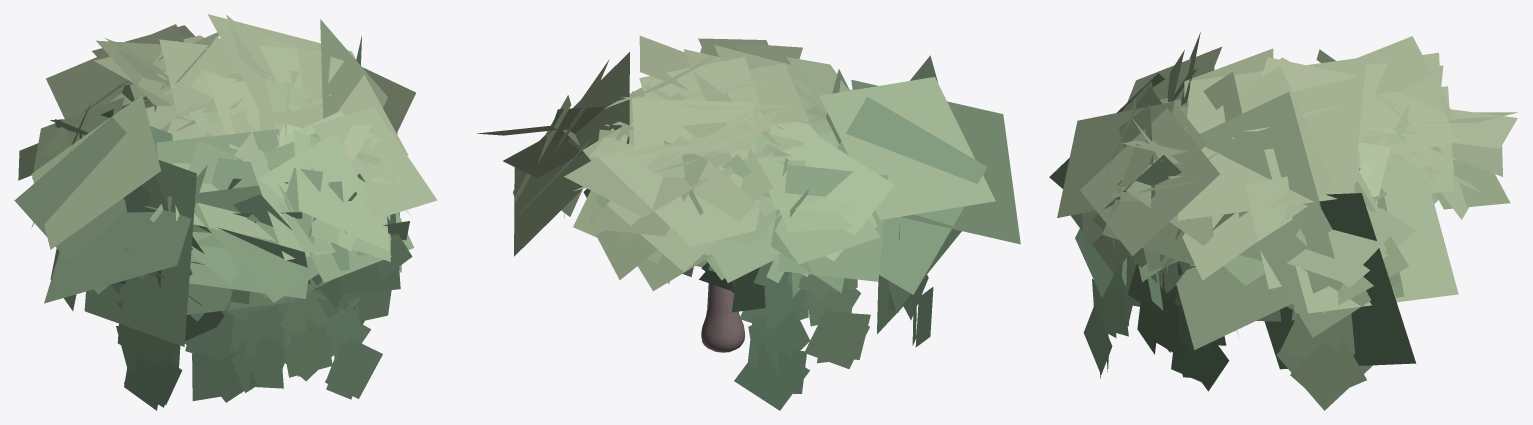
The model's file is willow_v1.glb.
3 views of the same model, side by side, from view 1: azimuth 30°, elevation 25°; view 2: azimuth 150°, elevation 25°; view 3: azimuth 270°, elevation 25° (orthographic). The views are drawn at different scales.
Visible parts, largest first — view 1: near, far; view 2: near, far; view 3: far, near.
Part boxes in pixels (<box>): near: <box>18,15,415,410</box>; far: <box>14,14,437,367</box>; near: <box>477,35,933,410</box>; far: <box>514,52,1020,334</box>; far: <box>1049,32,1518,410</box>; near: <box>1057,36,1517,404</box>.
Size of the model in its own units: 16.76 by 10.87 by 14.69.
